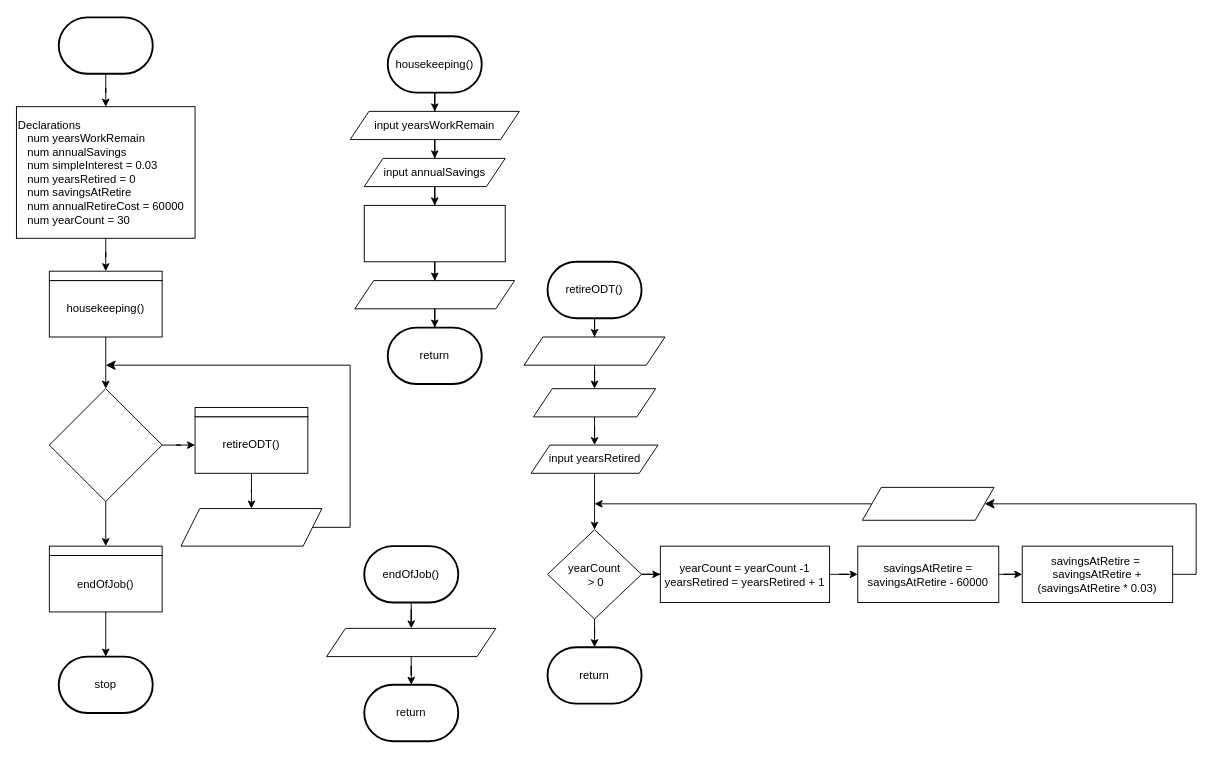
This 1222x758 diagram has some shape labels left out. Each missing label, with the box of its shape:
input savingsAtRetire: (523, 336, 665, 365)
input yearCount: (533, 388, 656, 417)
output "Go back to work!": (326, 627, 496, 657)
output savingsAtRetire: (354, 280, 515, 309)
output yearCount: (862, 486, 994, 520)
output yearsRetired, savingsAtRetire: (180, 508, 322, 546)
savingsAtRetire = yearsWorkRemain * (annualSavings * 0.03): (363, 204, 505, 262)
savingsAtRetire > 0?: (48, 388, 162, 501)
start: (57, 16, 153, 74)
